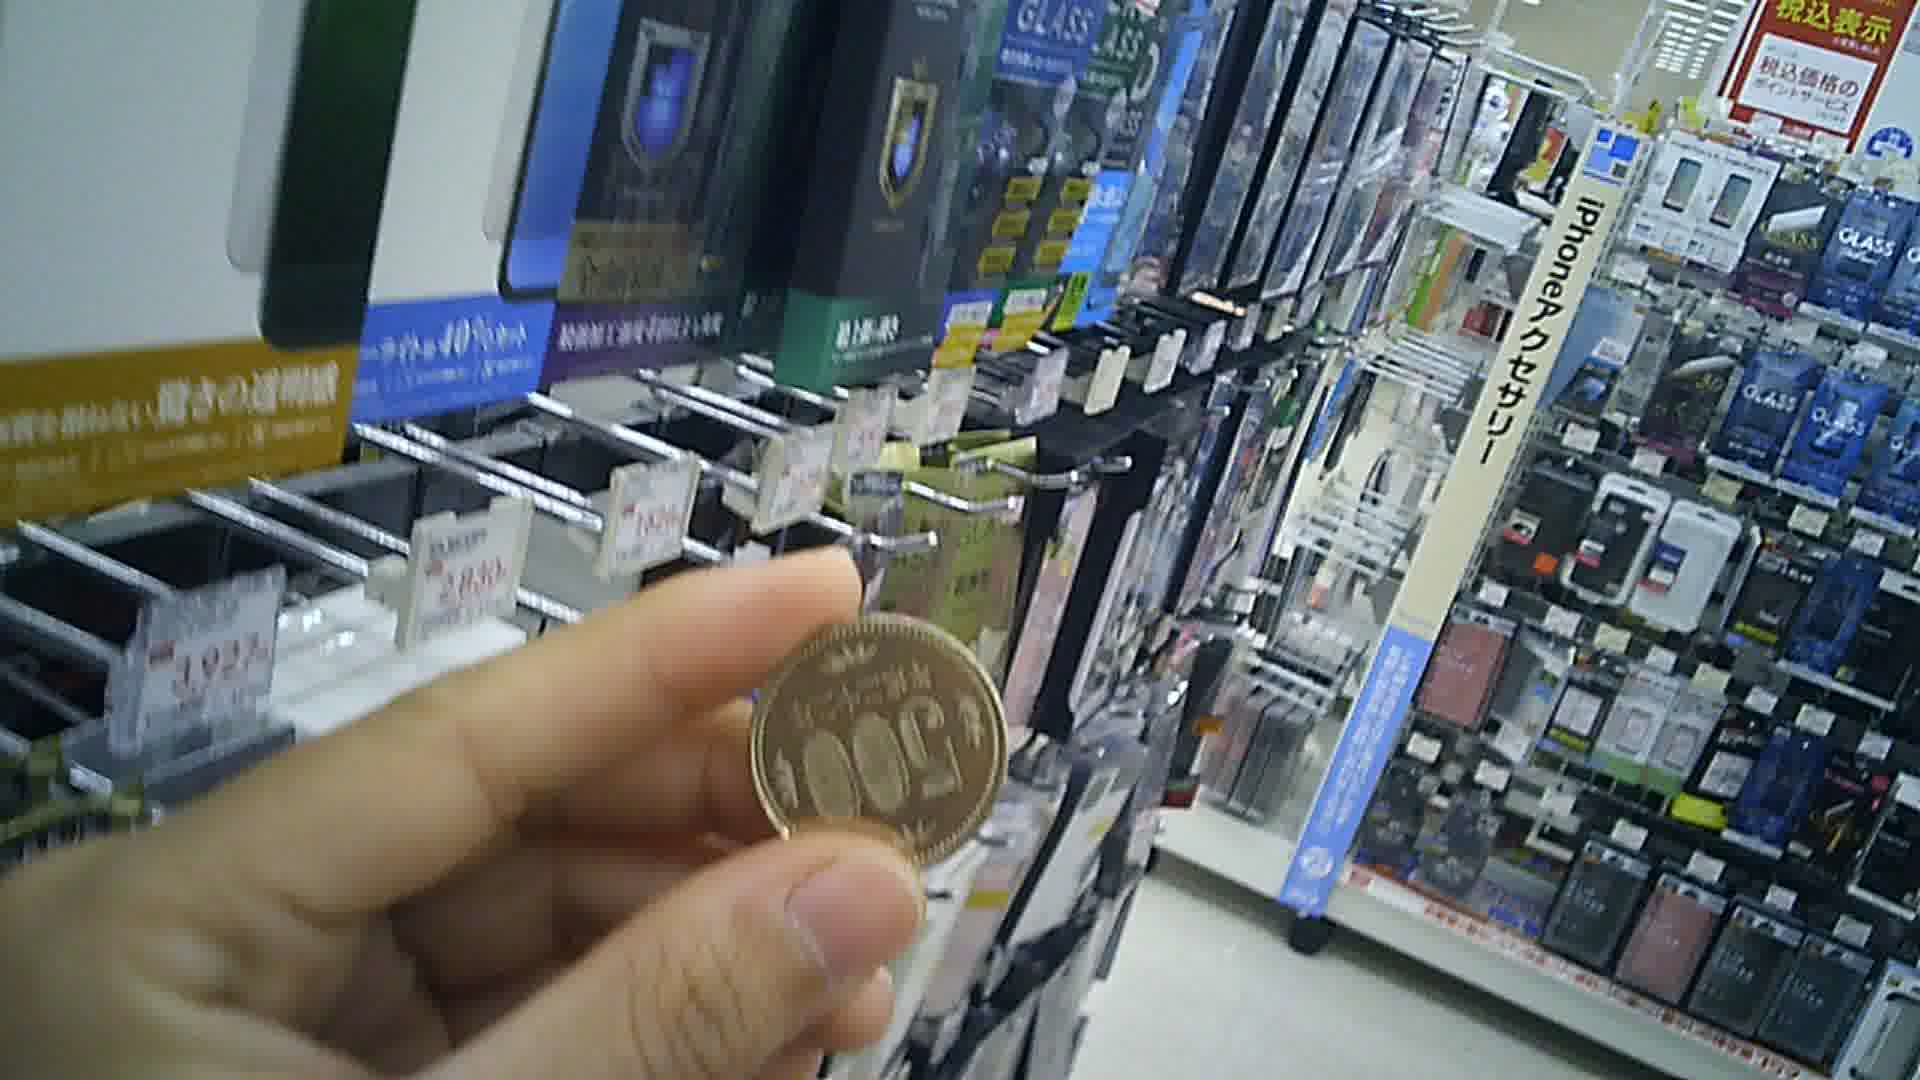500 Yen: (746, 611, 1013, 891)
